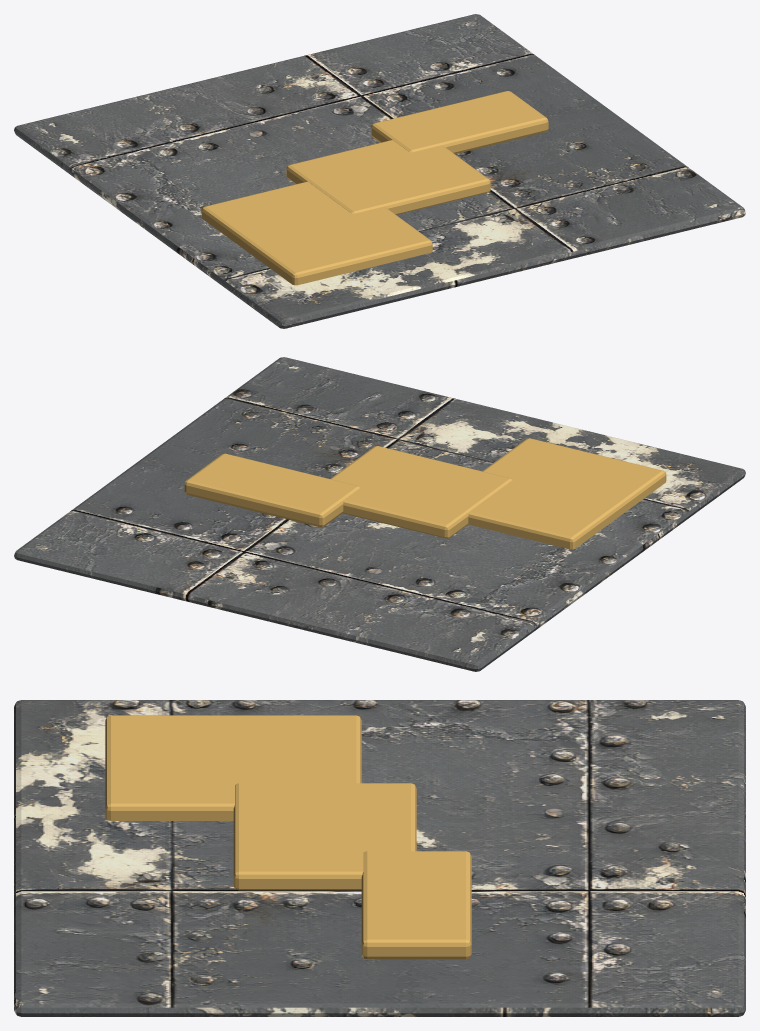
The model's file is inlay_step.glb.
3 views of the same model, one above another, from view 1: azimuth 30°, elevation 25°; view 2: azimuth 150°, elevation 25°; view 3: azimuth 270°, elevation 25° (orthographic). The views are drawn at different scales.
Visible parts, largest first — view 1: GEO-inlay-base, GEO-step, GEO-step.001, GEO-step.002; view 2: GEO-inlay-base, GEO-step, GEO-step.001, GEO-step.002; view 3: GEO-inlay-base, GEO-step, GEO-step.001, GEO-step.002.
Part boxes in pixels (x1,y1,x2,y2): GEO-inlay-base: [14, 14, 745, 328]; GEO-step: [201, 181, 432, 285]; GEO-step.001: [286, 140, 490, 214]; GEO-step.002: [371, 91, 548, 154]; GEO-inlay-base: [14, 357, 745, 671]; GEO-step: [468, 438, 666, 549]; GEO-step.001: [330, 446, 512, 538]; GEO-step.002: [184, 453, 360, 527]; GEO-inlay-base: [14, 700, 745, 1016]; GEO-step: [105, 715, 361, 820]; GEO-step.001: [233, 783, 416, 890]; GEO-step.002: [361, 851, 471, 959].
Bounding box in the file's own units: 40 × 1.9 × 40.
2 materials, 1 textured.
